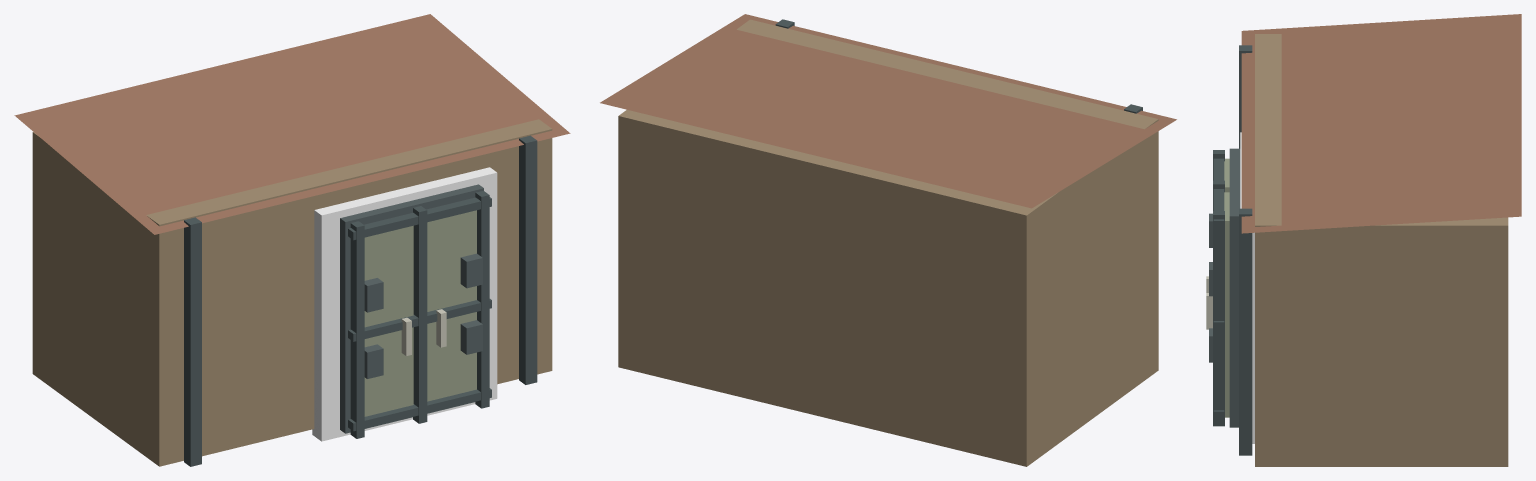
The model's file is frontier_garage_lean_to.glb.
3 renders of one model, left to right at view 1: azimuth 30°, elevation 25°; view 2: azimuth 150°, elevation 25°; view 3: azimuth 270°, elevation 25°, orthographic. The views are drawn at different scales.
Parts seen in each view (by area): view 1: frontier_garage_lean_to; view 2: frontier_garage_lean_to; view 3: frontier_garage_lean_to.
Part boxes in pixels (bbox=[...]): frontier_garage_lean_to: bbox=[14, 14, 570, 466]; frontier_garage_lean_to: bbox=[600, 14, 1176, 466]; frontier_garage_lean_to: bbox=[1206, 14, 1521, 466].
Size of the model in its own units: 3.6 by 2.18 by 2.37.
